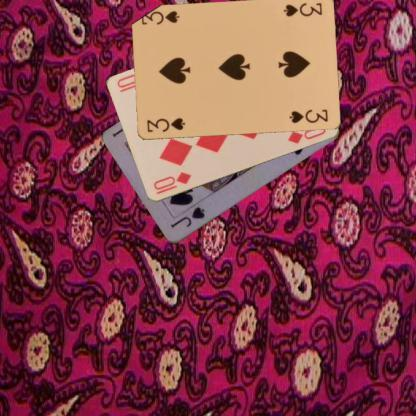10d: (150, 169, 192, 192)
3s: (280, 0, 324, 19), (144, 115, 186, 134)
Js: (168, 204, 206, 230)
